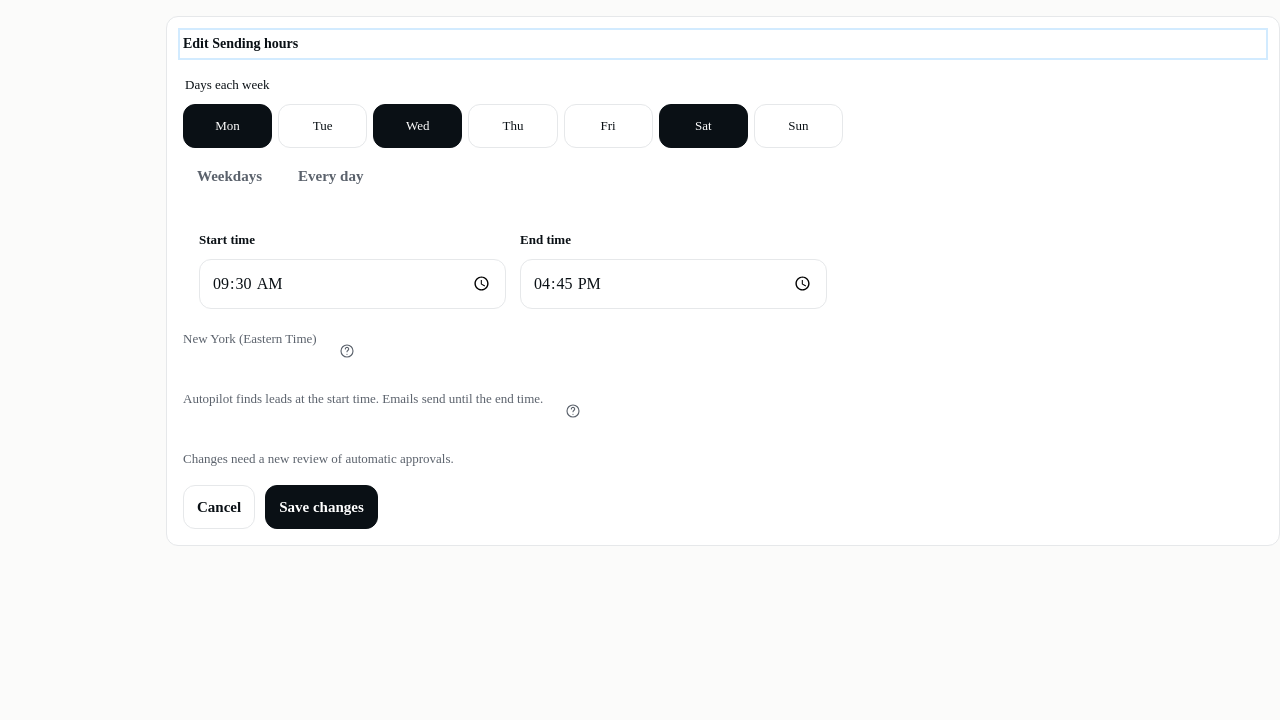
it: server schedule rejection preserves the edited schedule and reports its error
The image size is (1280, 720).
Click the button "Save changes" at (322, 507), box [265, 485, 378, 529]
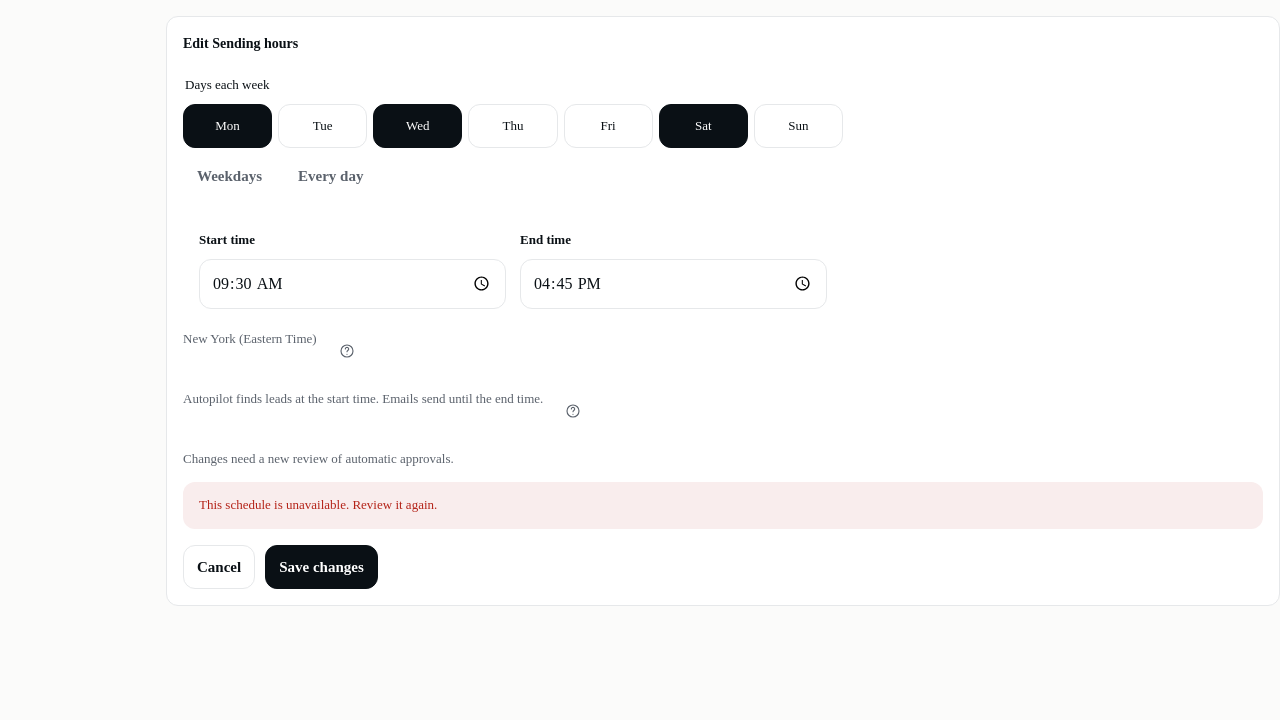
Expected: the time field labelled "Start time" holds "09:30", [199, 259, 506, 309]
Result: the message shows "Review it again" at [199, 497, 437, 512]
